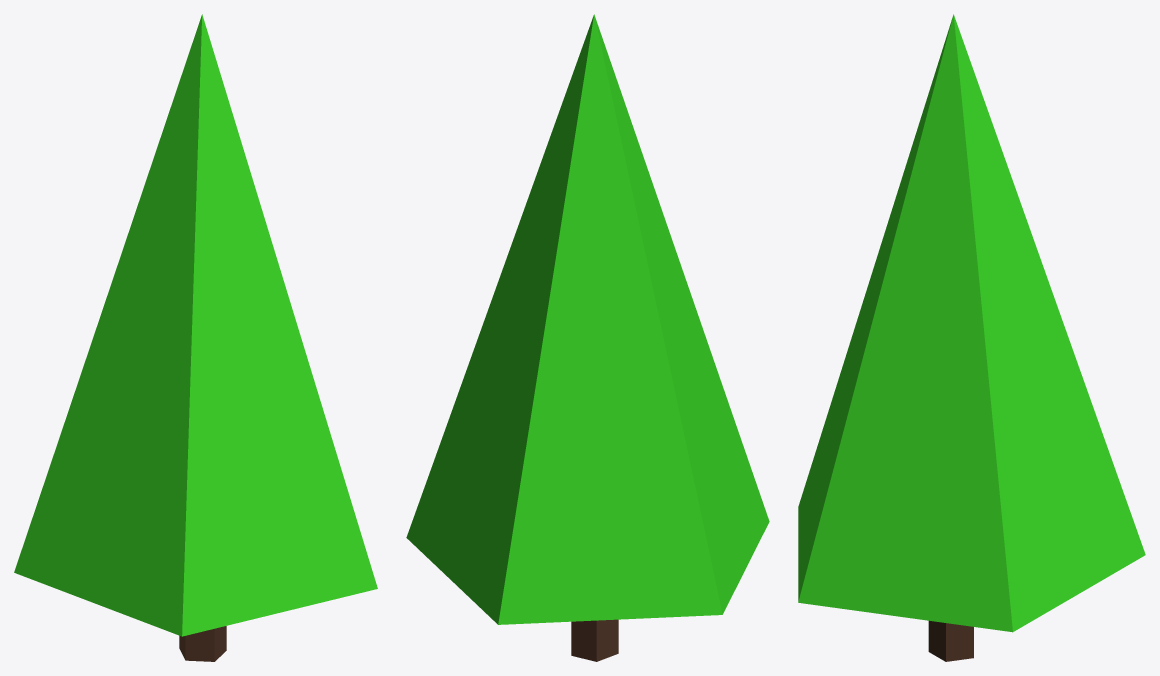
Rendered from Pine_1a.fbx.
3 views of the same model, side by side, from view 1: azimuth 30°, elevation 25°; view 2: azimuth 150°, elevation 25°; view 3: azimuth 270°, elevation 25° (orthographic).
Parts seen in each view (by area): view 1: Cone; view 2: Cone; view 3: Cone.
Boxes of the visible parts, x1=… form: Cone: x1=14, y1=14, x2=377, y2=661; Cone: x1=406, y1=14, x2=769, y2=661; Cone: x1=798, y1=14, x2=1145, y2=661.
Size of the model in its own units: 133 by 256 by 127.
